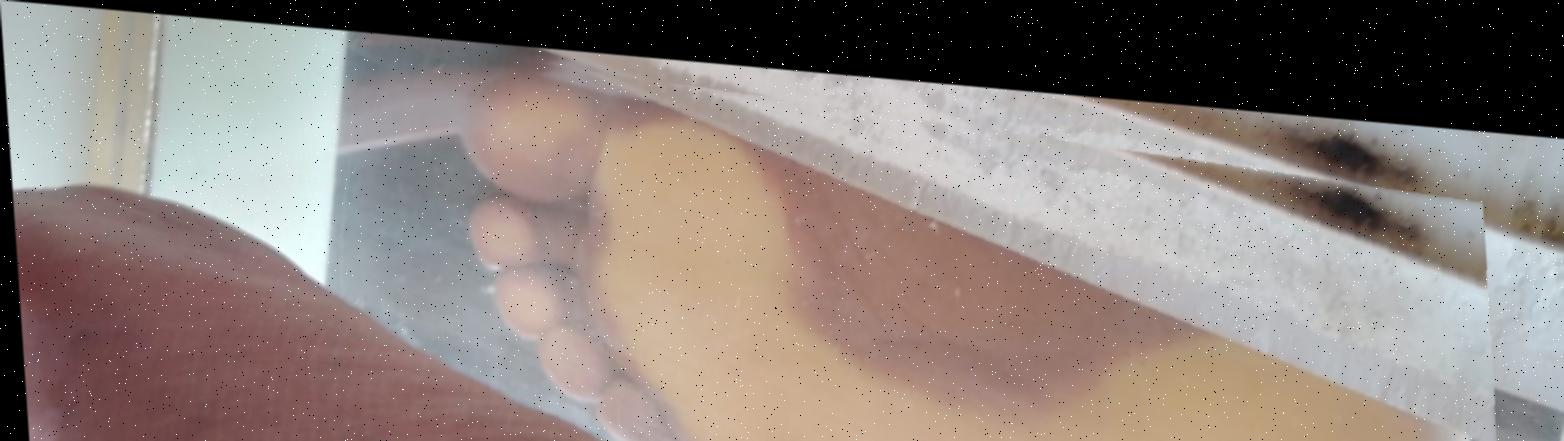Present: (445, 41, 1501, 441)
